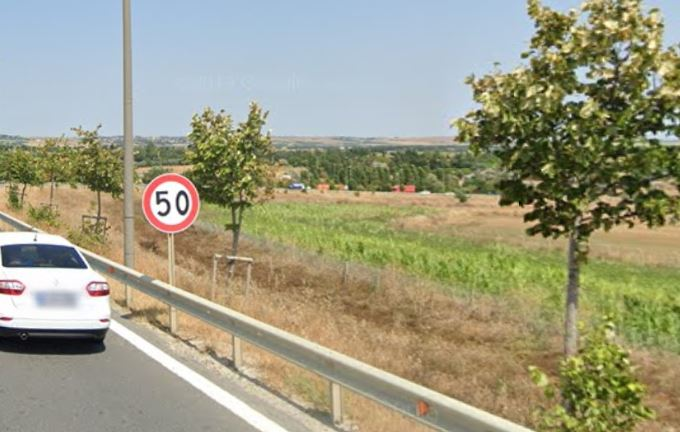50 Km Hiz Siniri: (142, 171, 203, 234)
